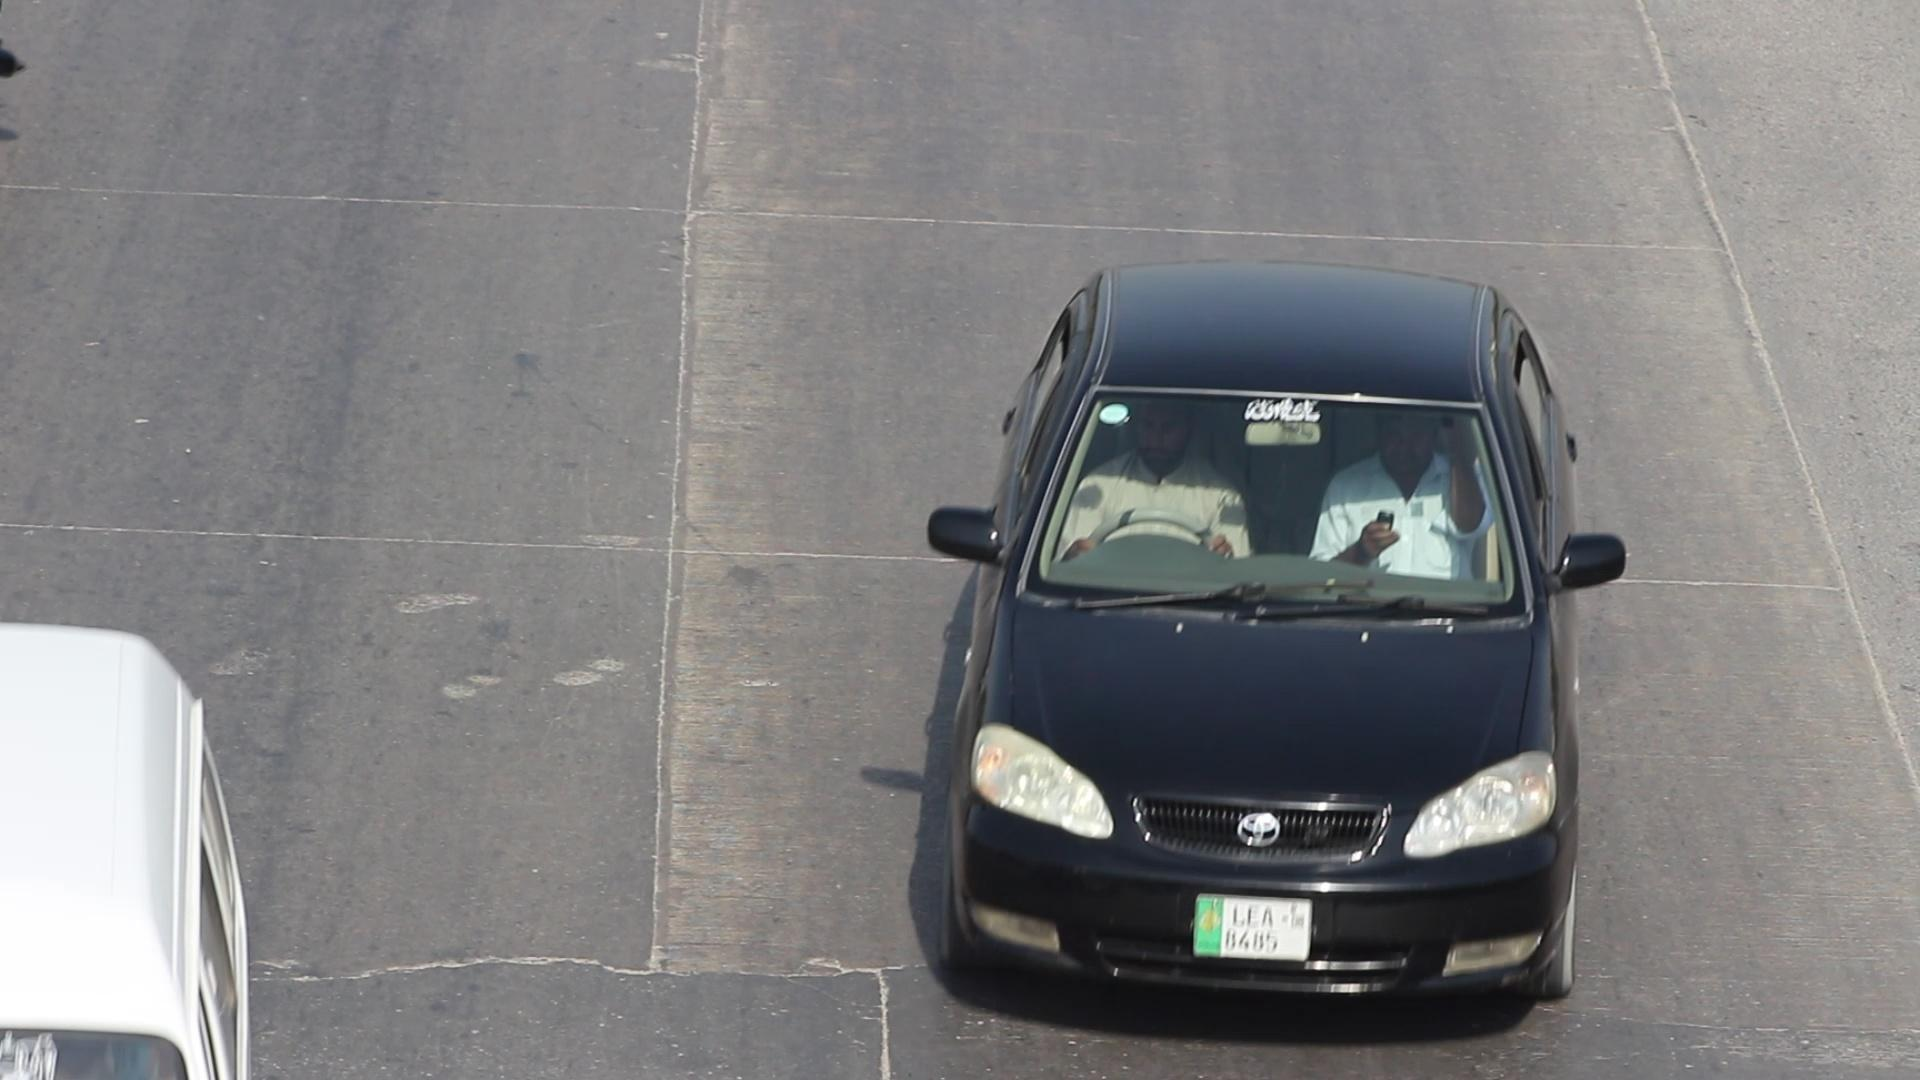windshield: (994, 360, 1553, 630)
